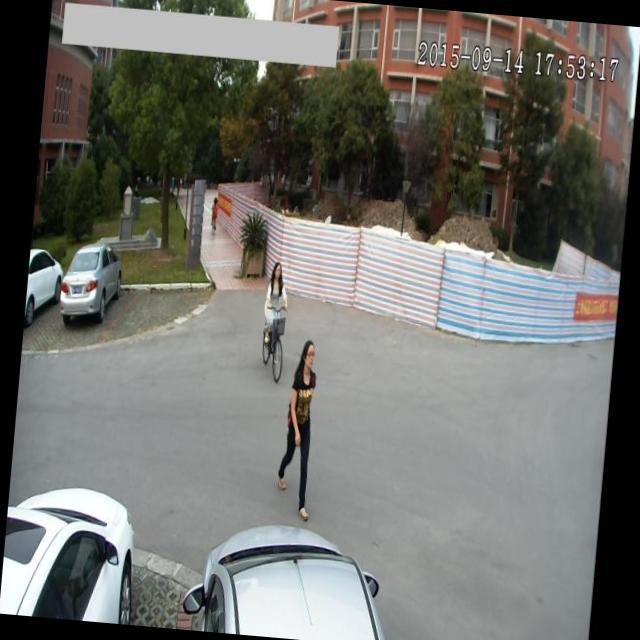person: (272, 334, 328, 525), (258, 255, 294, 357)
